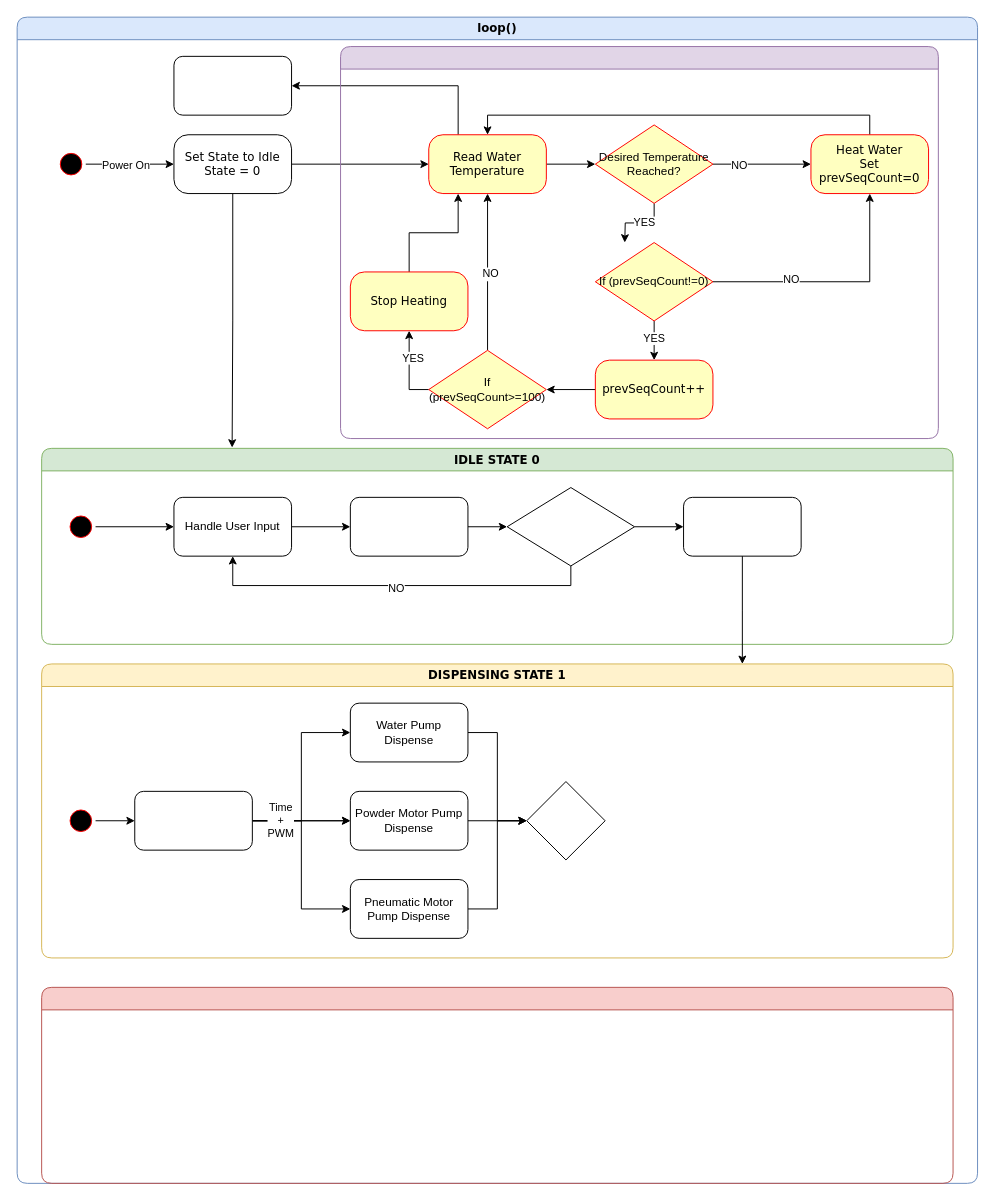
Some shapes in this 995 by 1201 pixel diagram are drawn without their labels. Here are the shapes that lost their labels. From the top down, the centre of each, then its label:
the point at 232,85: Display Temperature on 7 Segment
the point at 639,242: Water Heating Sub-System
the point at 408,526: Update Volume & Viscosity levels
the point at 570,526: If userButtonPin Pressed?
the point at 742,526: Set State to Dispensing State = 1
the point at 193,820: Calculate Total time to PWM for motors
the point at 565,820: If Time Reached
the point at 497,1084: MIXING STATE 2
